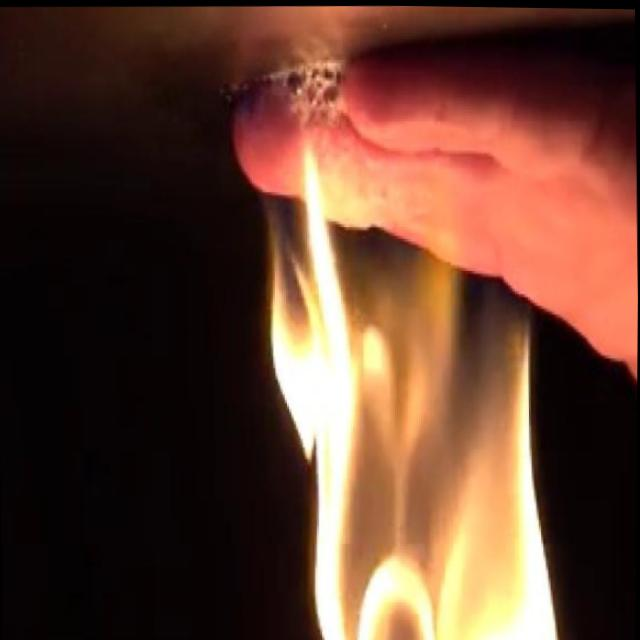Fire: (270, 134, 579, 640)
